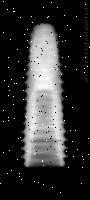Cowellmedi: (22, 21, 67, 168)
